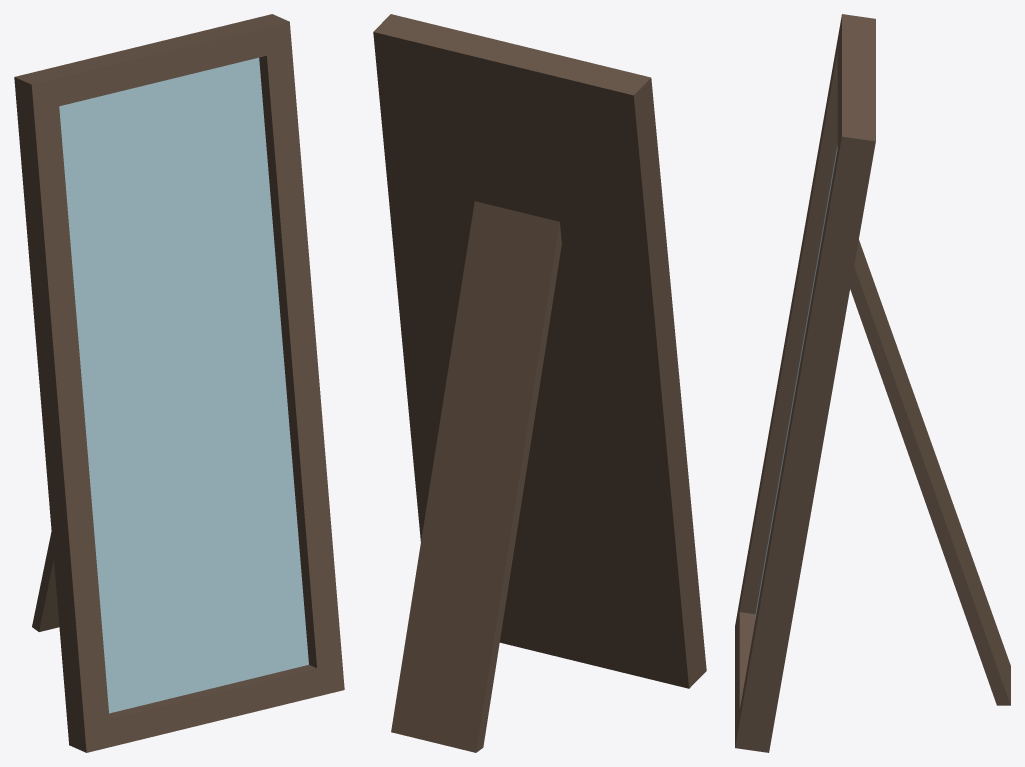
File: Mirror_10.fbx
3 views of the same model, side by side, from view 1: azimuth 30°, elevation 25°; view 2: azimuth 150°, elevation 25°; view 3: azimuth 270°, elevation 25° (orthographic). The views are drawn at different scales.
Parts seen in each view (by area): view 1: Mirror_10; view 2: Mirror_10; view 3: Mirror_10.
Part boxes in pixels (x1,y1,x2,y2): Mirror_10: (14,14,344,752); Mirror_10: (373,14,706,752); Mirror_10: (735,14,1010,752).
Size of the model in its own units: 89.58 by 85.1 by 210.
